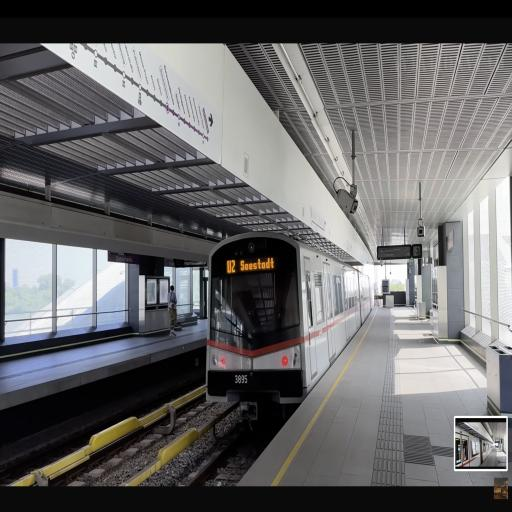V-Wagen: (206, 231, 372, 406)
